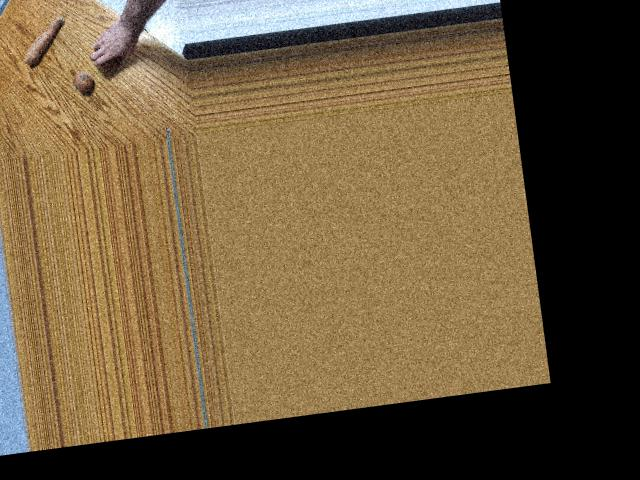onion: (96, 47, 125, 72)
